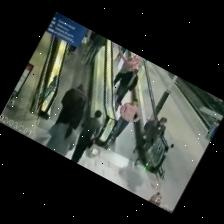person: (71, 111, 101, 163), (133, 118, 166, 164), (56, 85, 86, 128), (46, 118, 78, 156), (111, 99, 138, 141), (116, 68, 138, 105), (114, 47, 135, 85), (86, 34, 107, 65), (84, 32, 97, 55), (149, 193, 161, 205), (133, 55, 142, 69), (68, 45, 76, 54), (121, 47, 126, 54)
